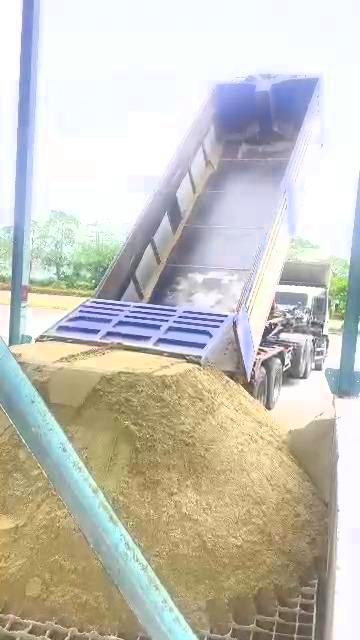sand: (17, 344, 324, 629), (0, 416, 138, 631), (289, 405, 334, 505)
